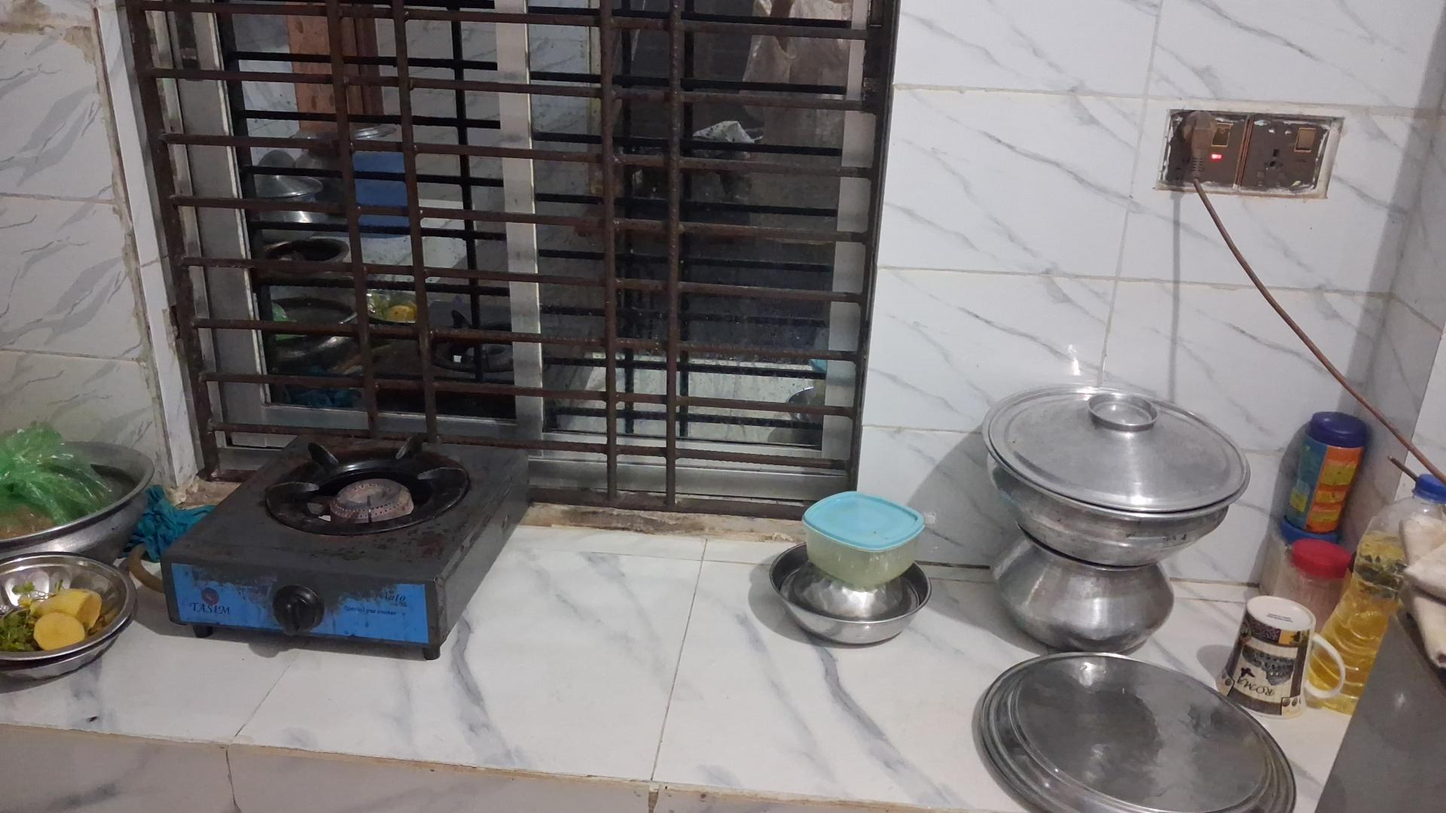Bottle: (1308, 470, 1446, 696)
Bowl: (0, 552, 136, 684), (765, 541, 925, 647)
Cup: (1229, 598, 1347, 708)
Food: (15, 581, 111, 649)
Jar: (801, 490, 927, 590), (1286, 406, 1368, 537)
Plate: (977, 662, 1296, 813)
Pot: (983, 381, 1247, 564), (1003, 534, 1170, 657), (0, 432, 143, 542)
